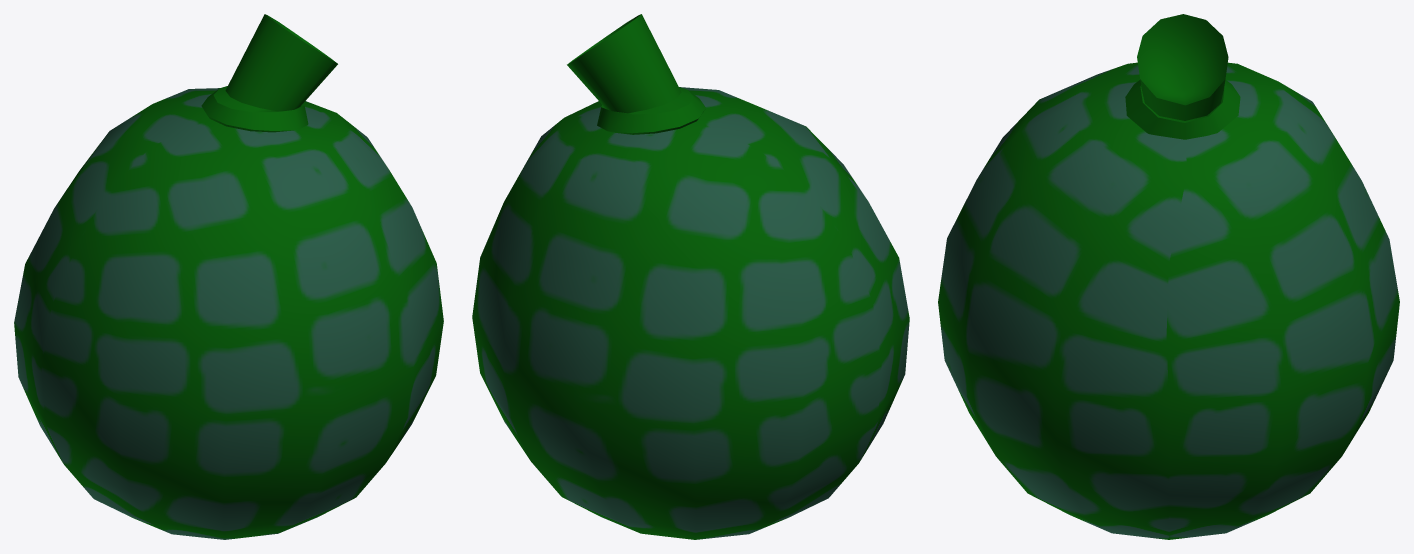
File: Grenade_.fbx
The picture shows the model from 3 angles, left to right: view 1: azimuth 30°, elevation 25°; view 2: azimuth 150°, elevation 25°; view 3: azimuth 270°, elevation 25°; orthographic projection. The views are drawn at different scales.
Visible parts, largest first — view 1: Grenade_Outline; view 2: Grenade_Outline; view 3: Grenade_Outline.
Part boxes in pixels (<box>): Grenade_Outline: <box>14,14,443,539</box>; Grenade_Outline: <box>472,14,909,539</box>; Grenade_Outline: <box>938,14,1399,539</box>.
Size of the model in its own units: 0.3088 by 0.3789 by 0.3003.
